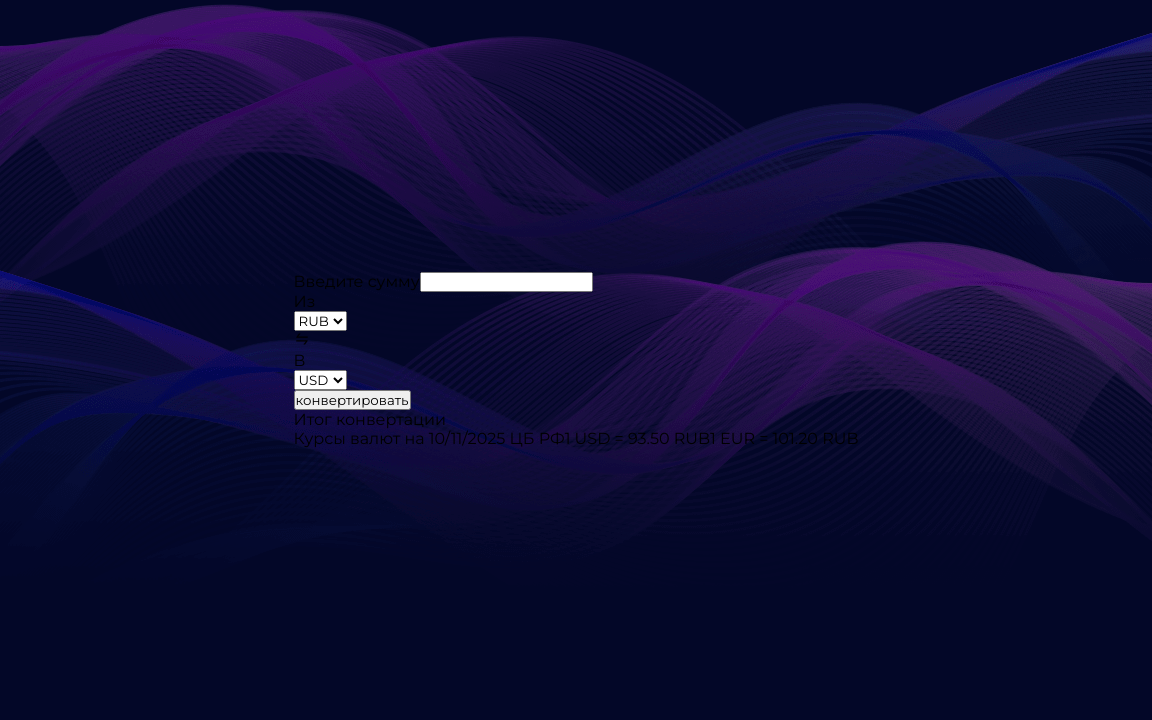
Scenario: ConverterForm › сбрасывает результат конвертации при изменении суммы
Expected: the text "1 USD = 93.50 RUB" is shown, [565,429,710,448]
In the number field: (506, 282) [420,272,593,292], type "100"
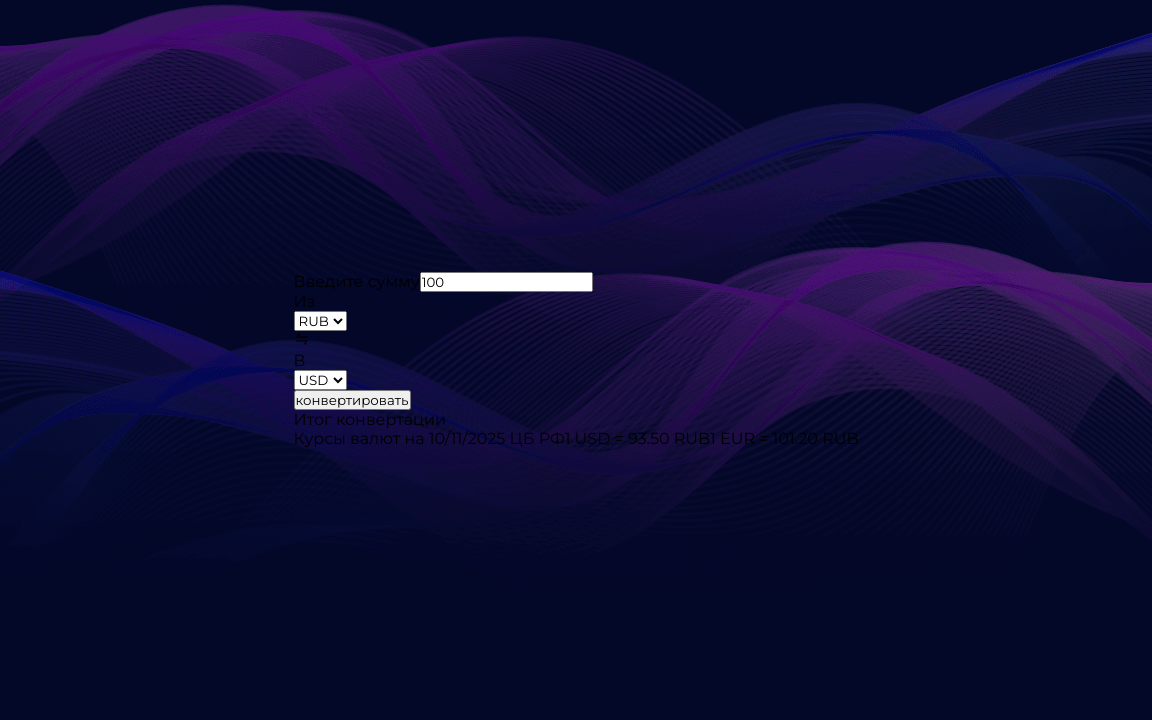
Click the button "конвертировать": (352, 400) [294,390,410,410]
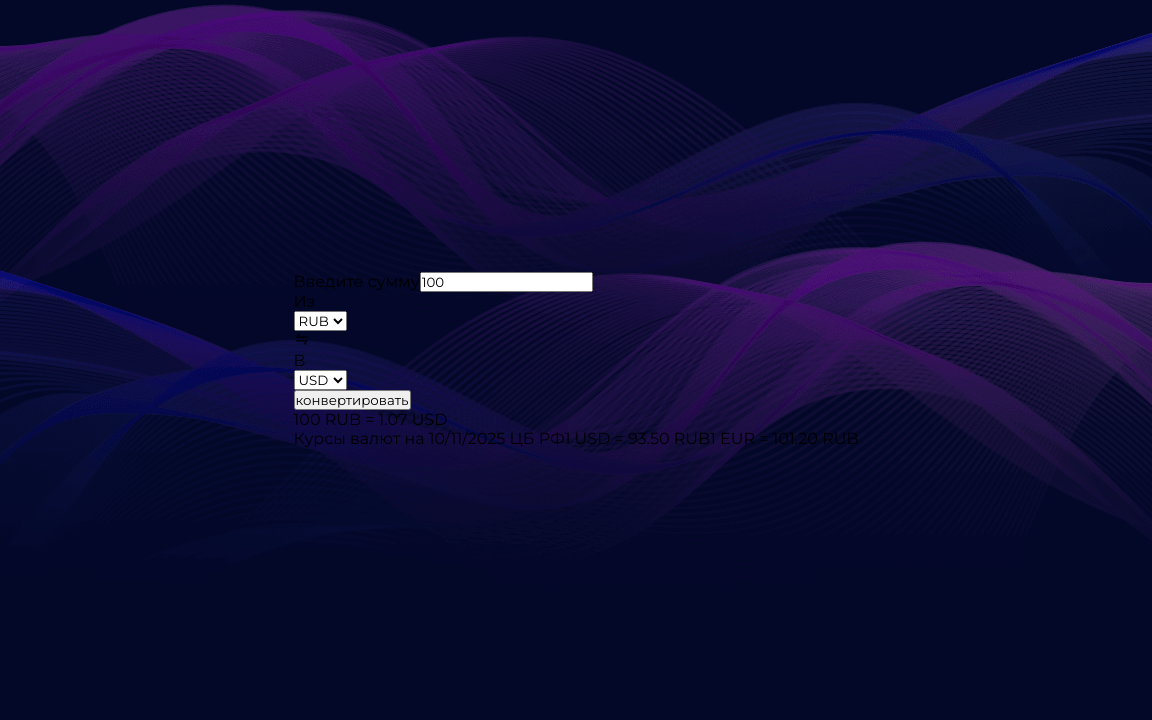
Result: the text "100 RUB = 1.07 USD" is shown at [294,410,447,429]
# Меняем сумму
Replace the text in the number field with "200": (506, 282) [420,272,593,292]
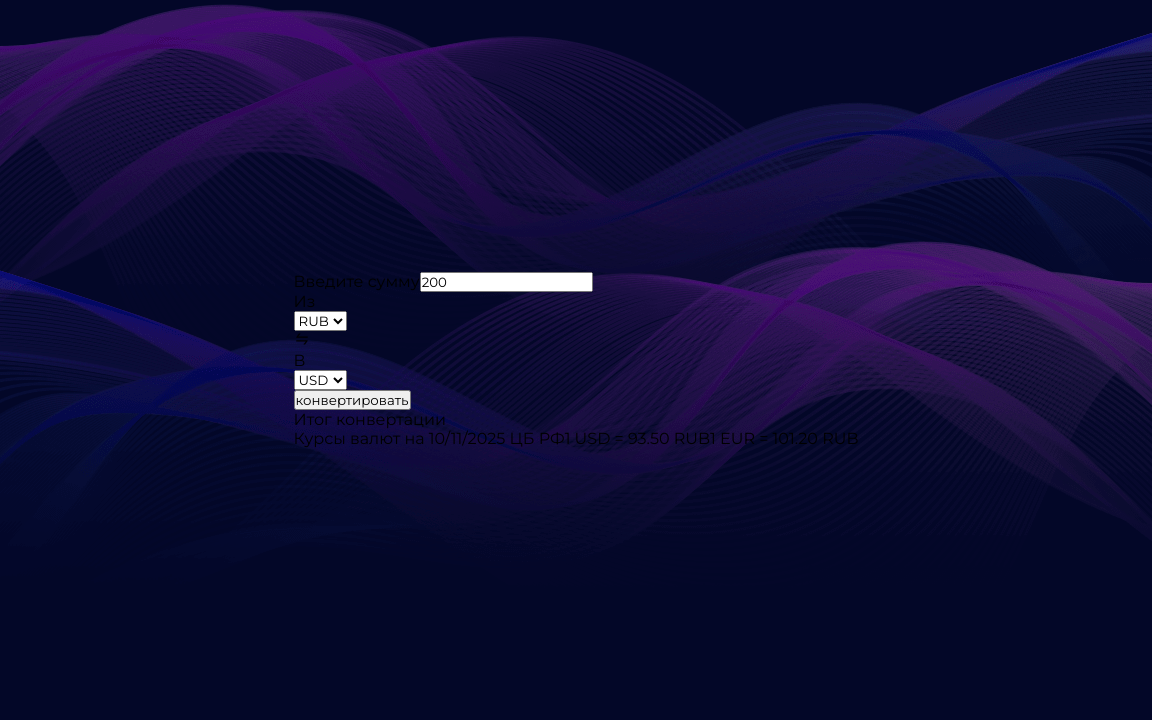
Result: the text "100 RUB =" is gone
